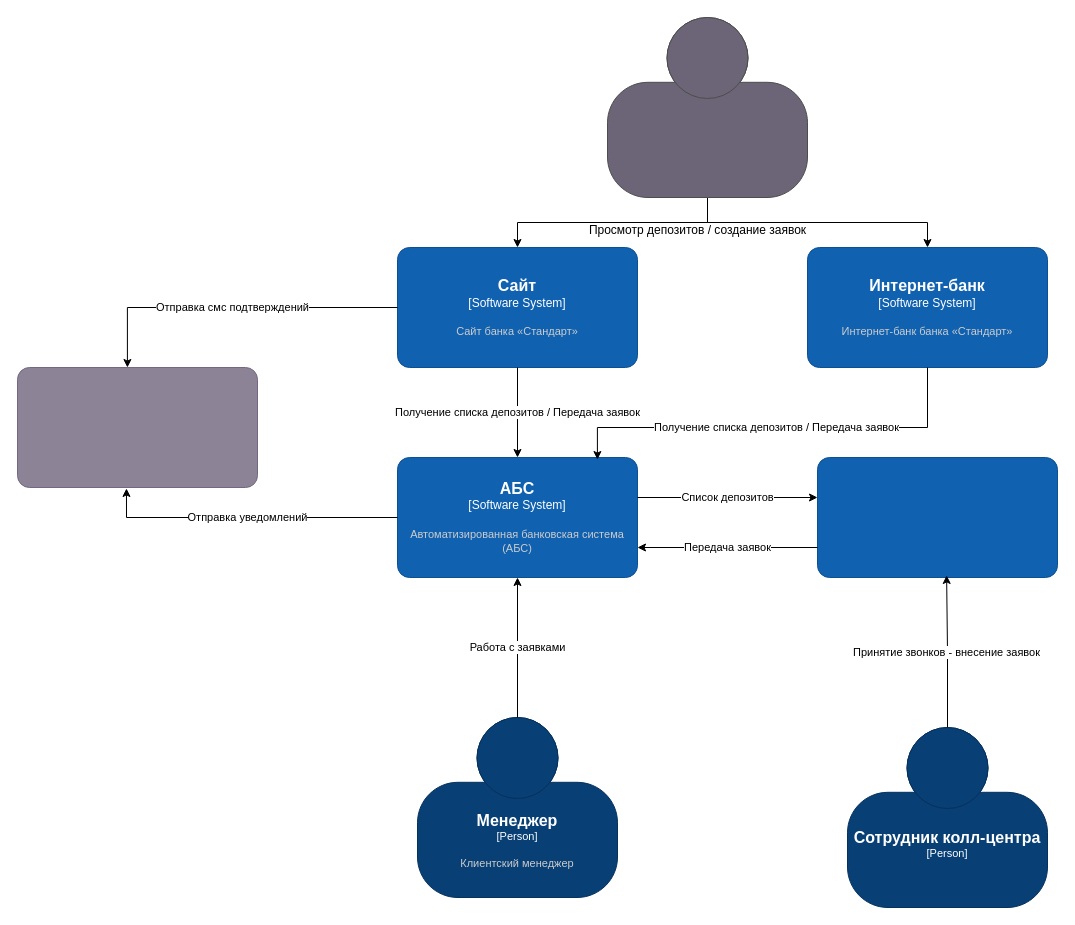
The diagram is 1075 pixels wide and 925 high, and some of its shapes have lost their labels. Here are the shapes that lost their labels. From the top down, the centre of each, then its label:
At [707,107]: "Клиент [Person] Клиент".
At [137,427]: "СМС-шлюз [Software System]".
At [937,517]: "Система колл-центра [Software System] ПО Колл-центра".
